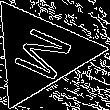M_SE: (3, 21, 76, 85)
